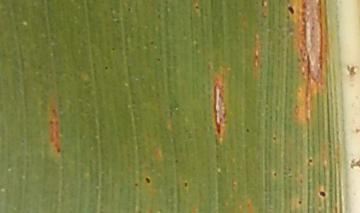tarspot: (286, 3, 296, 16), (316, 188, 328, 198), (296, 196, 306, 208), (143, 174, 153, 185), (182, 179, 190, 190), (306, 156, 315, 164), (244, 125, 252, 133), (102, 64, 110, 71), (133, 181, 141, 188), (272, 134, 277, 143), (272, 171, 277, 178)
